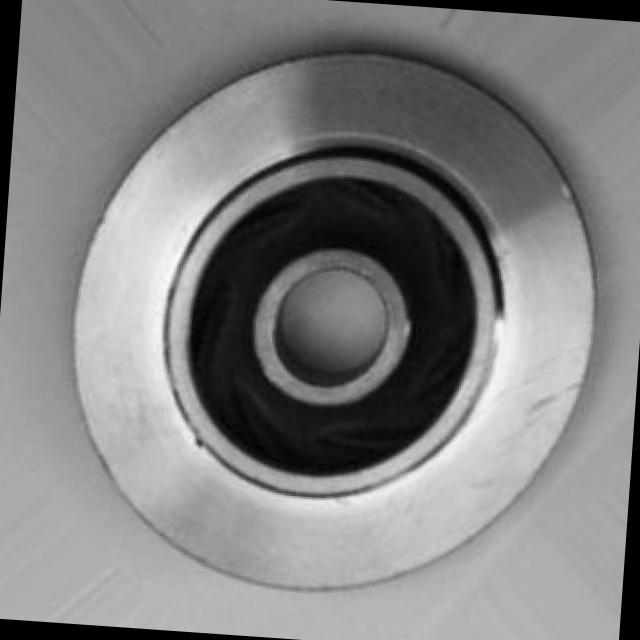Defect: (175, 426, 223, 461)
